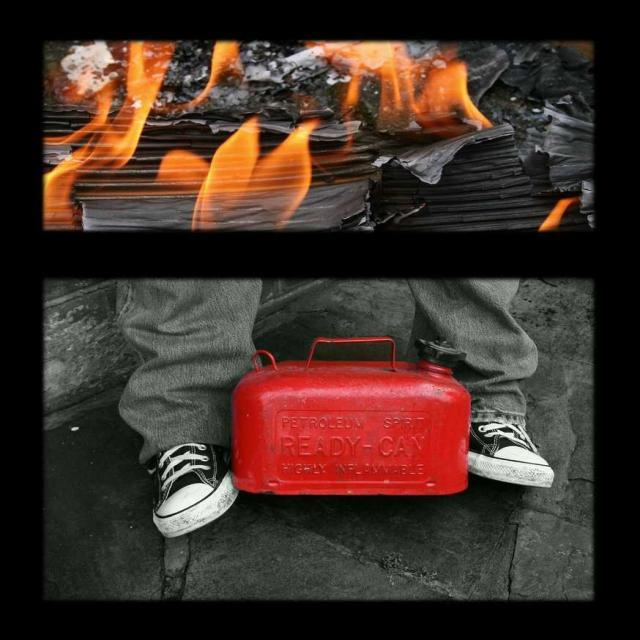Fire: (207, 158, 291, 218), (394, 64, 466, 119), (96, 106, 146, 161)
